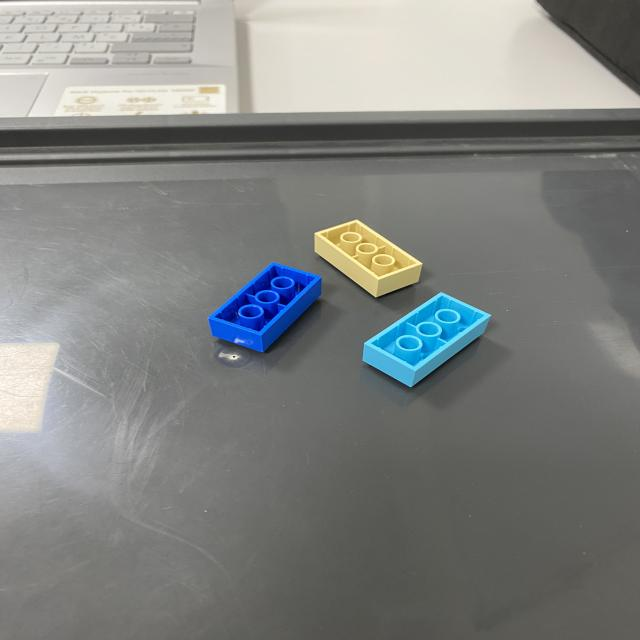C4x2x1: (369, 294, 492, 388), (210, 261, 324, 350), (309, 218, 427, 278), (362, 343, 416, 387), (380, 265, 422, 296)
